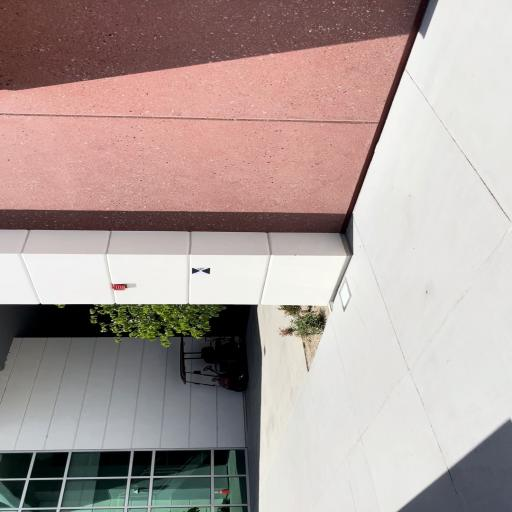target6: (192, 267, 211, 274)
